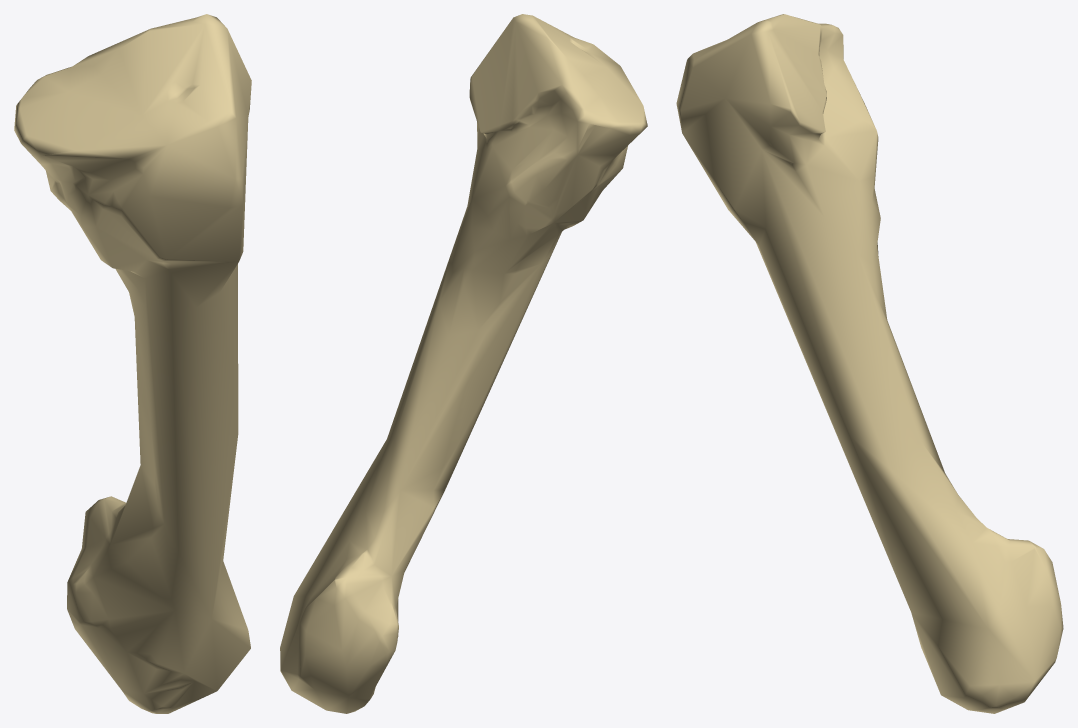
3 views of the same model, side by side, from view 1: azimuth 30°, elevation 25°; view 2: azimuth 150°, elevation 25°; view 3: azimuth 270°, elevation 25° (orthographic). The views are drawn at different scales.
Visible parts, largest first — view 1: 左侧第四跖骨; view 2: 左侧第四跖骨; view 3: 左侧第四跖骨.
Boxes of the visible parts, x1,y1,x2,y2 form: 左侧第四跖骨: (14,14,251,713); 左侧第四跖骨: (280,14,647,713); 左侧第四跖骨: (676,14,1063,713).
Bounding box in the file's own units: 0.044 × 0.101 × 0.0545.
